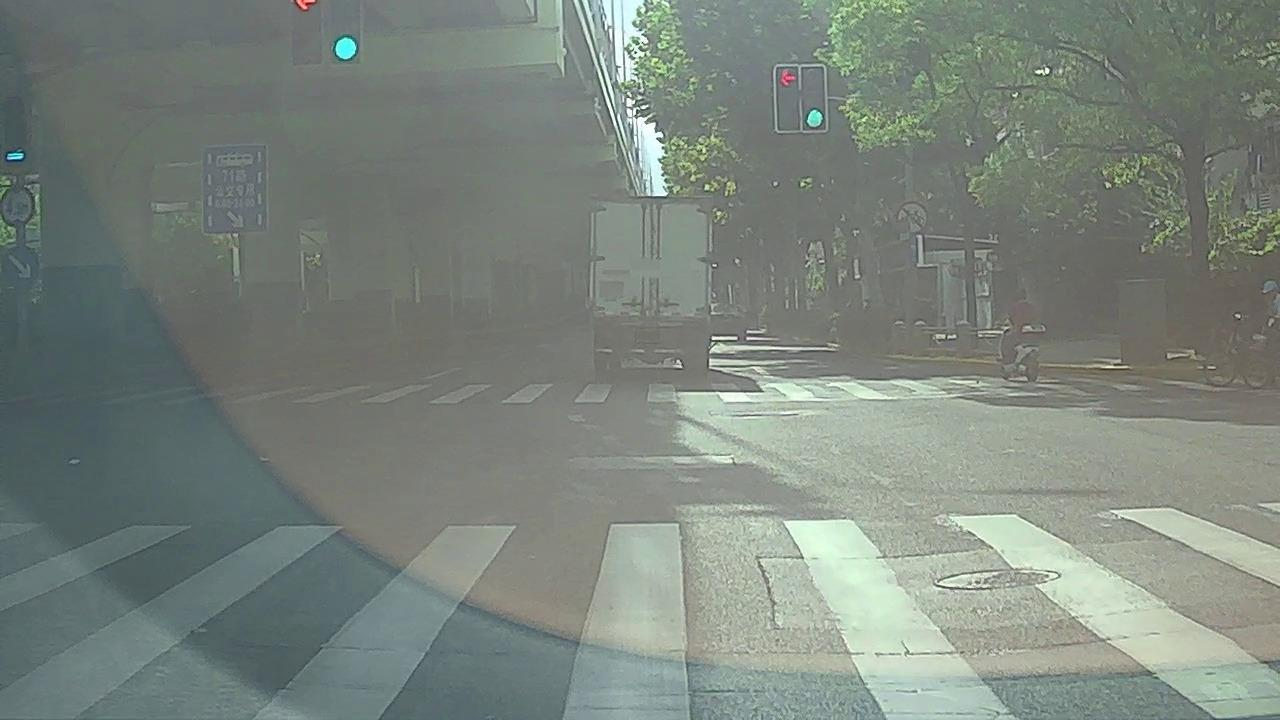traffic_light: (330, 1, 364, 61), (773, 66, 803, 130), (799, 61, 826, 132), (292, 1, 323, 59)
